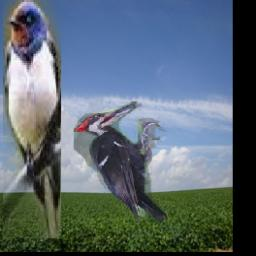Swallow: (3, 0, 61, 238)
Woodpecker: (75, 102, 169, 224)
